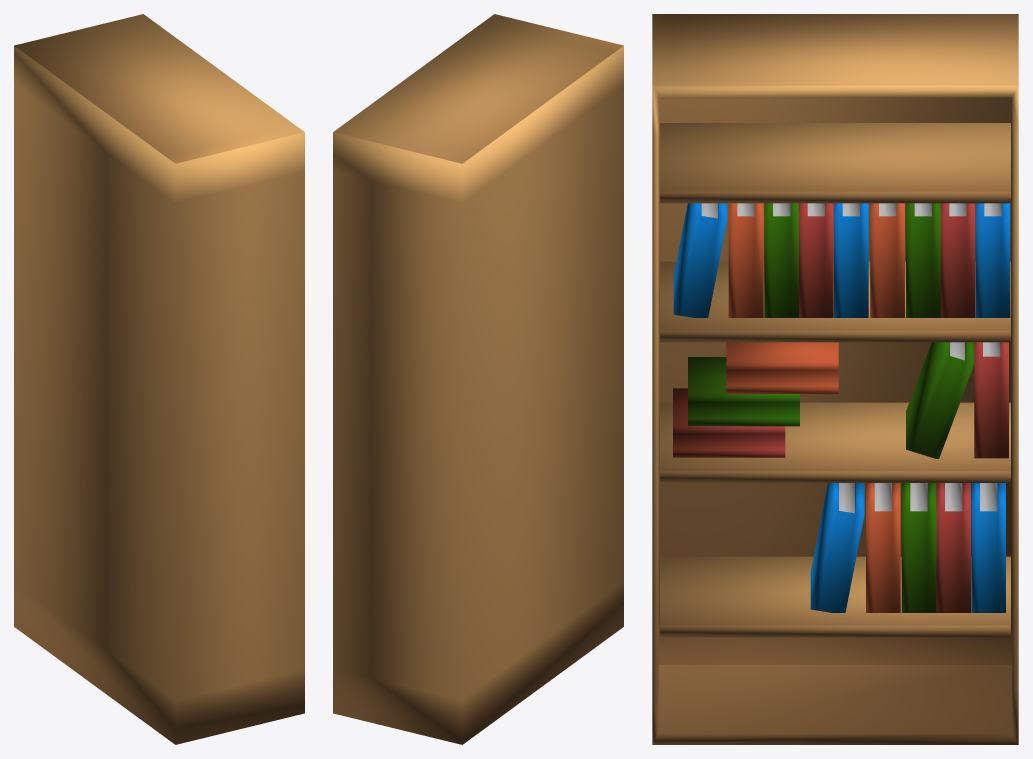
File: BookcaseWbooks.fbx
3 renders of one model, left to right at view 1: azimuth 30°, elevation 25°; view 2: azimuth 150°, elevation 25°; view 3: azimuth 270°, elevation 25°, orthographic. The views are drawn at different scales.
Parts seen in each view (by area): view 1: Book.001; view 2: Book.001; view 3: Book.001.
Boxes of the visible parts, box(x1,y1,x2,y2) form: Book.001: box(14, 14, 304, 744); Book.001: box(333, 14, 623, 744); Book.001: box(652, 14, 1018, 744).
Size of the model in its own units: 220 by 51.24 by 111.
